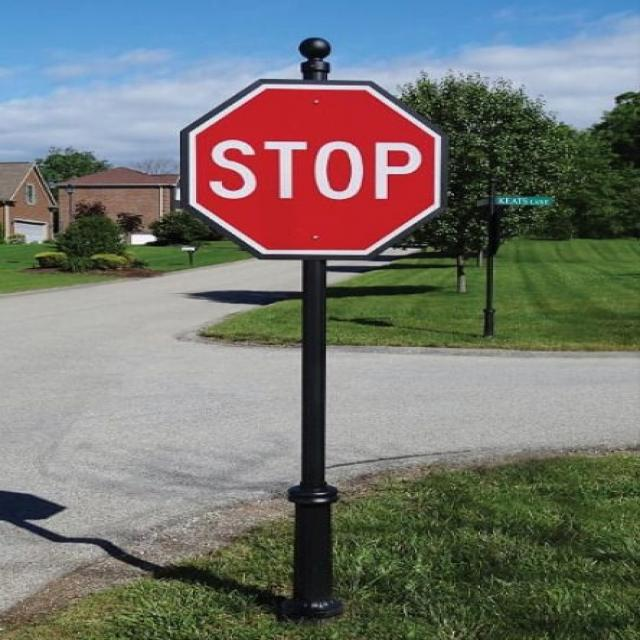stop: (179, 77, 444, 260)
